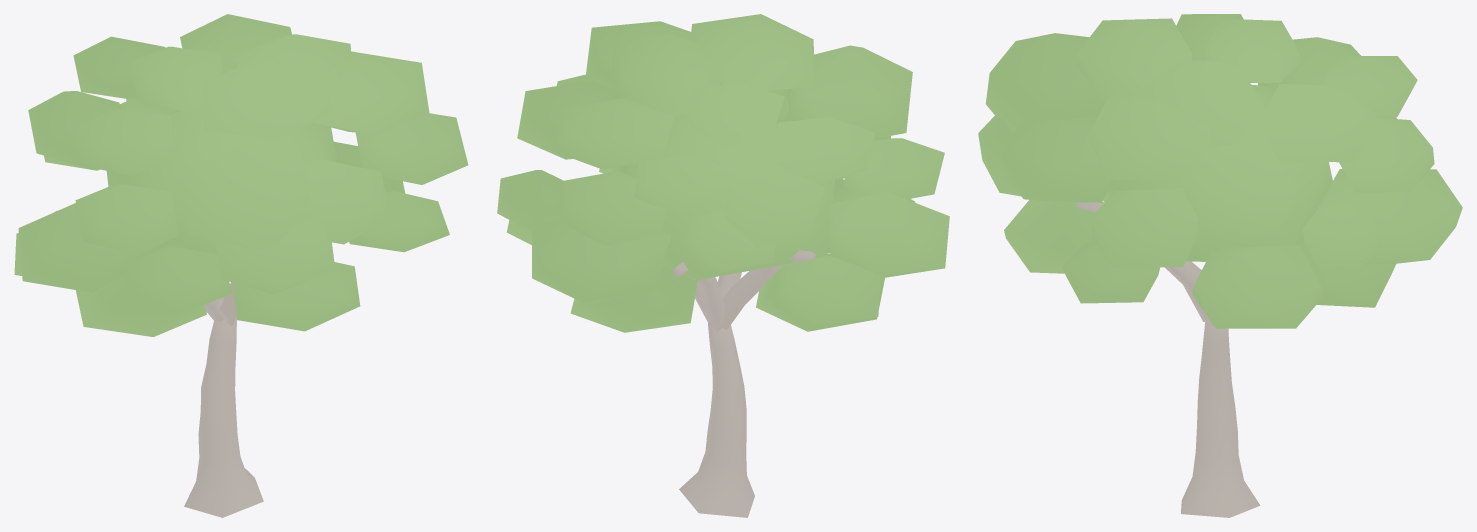
Rendered from Blender_LakeBlackOak_3_Far.glb.
The picture shows the model from 3 angles, left to right: view 1: azimuth 30°, elevation 25°; view 2: azimuth 150°, elevation 25°; view 3: azimuth 270°, elevation 25°; orthographic projection. The views are drawn at different scales.
Visible parts, largest first — view 1: Blender_LakeBlackOak_3_Far; view 2: Blender_LakeBlackOak_3_Far; view 3: Blender_LakeBlackOak_3_Far.
Boxes of the visible parts, left/top/right/bottom form: Blender_LakeBlackOak_3_Far: left=14, top=14, right=468, bottom=517; Blender_LakeBlackOak_3_Far: left=497, top=14, right=949, bottom=517; Blender_LakeBlackOak_3_Far: left=978, top=14, right=1462, bottom=517.
Bounding box in the file's own units: 17.32 × 18.56 × 16.64.
